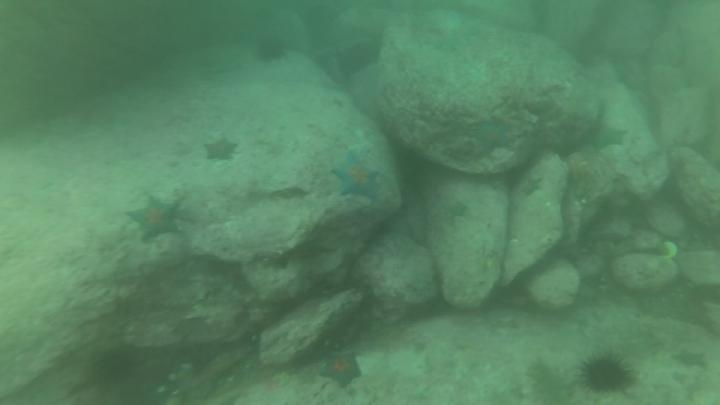echinus: (576, 347, 636, 397), (90, 346, 136, 393), (339, 44, 375, 80), (255, 34, 289, 63)
starfish: (124, 196, 187, 248), (328, 151, 385, 206), (316, 350, 366, 392), (472, 117, 517, 157), (584, 120, 628, 152), (201, 137, 241, 166), (669, 346, 711, 372), (519, 174, 544, 200), (444, 200, 472, 221)
